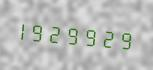nine: (85, 20, 101, 52), (119, 23, 135, 55), (34, 16, 50, 47), (68, 19, 84, 50)
one: (17, 14, 33, 46)
two: (51, 17, 67, 49), (102, 22, 118, 53)
